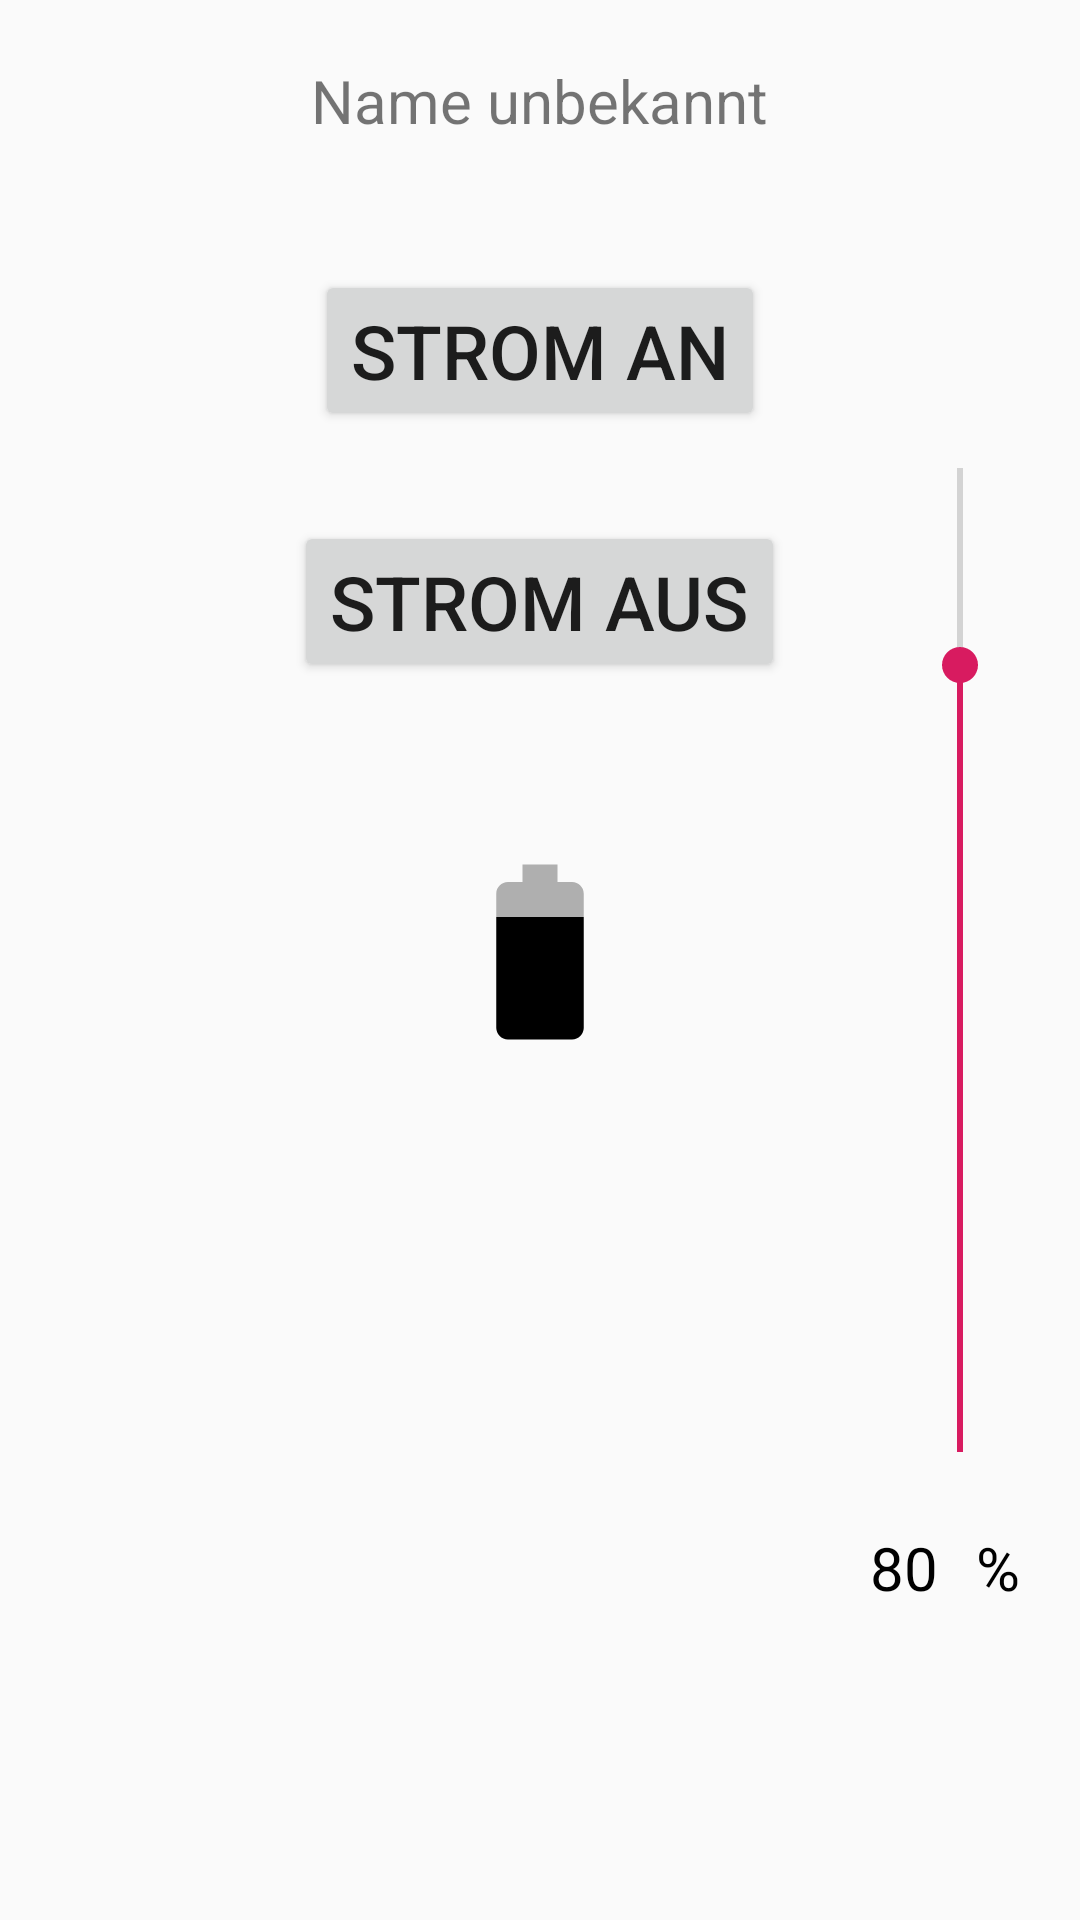

Icon click points for this 1080 x 1920 phone screenshot, format (x=x, y=y):
battery discharging: (x=540, y=952)
